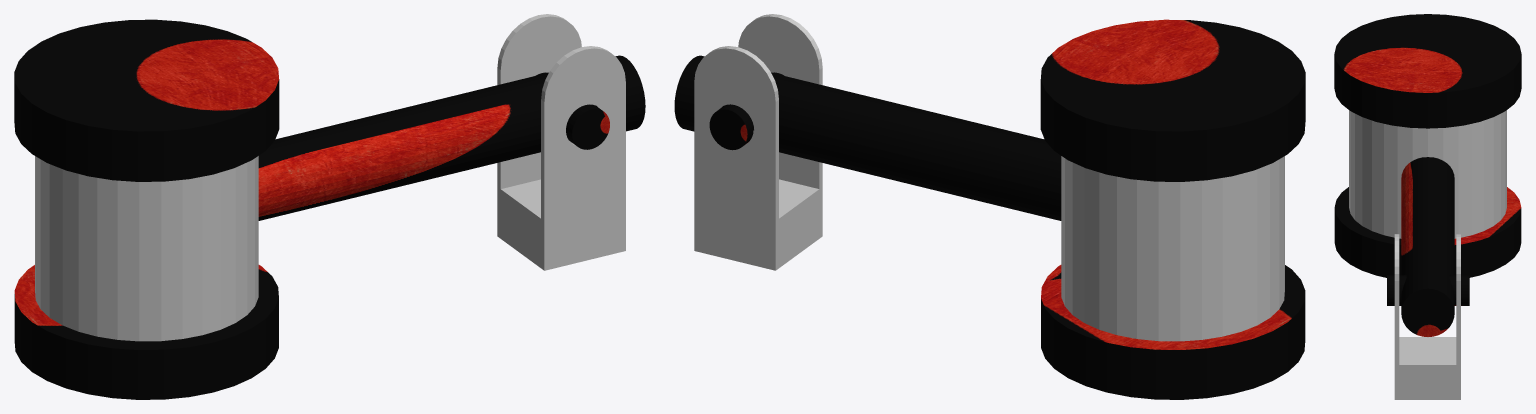
File: Spinning_Sledgehammer 1.fbx
The picture shows the model from 3 angles, left to right: view 1: azimuth 30°, elevation 25°; view 2: azimuth 150°, elevation 25°; view 3: azimuth 270°, elevation 25°; orthographic projection. The views are drawn at different scales.
Parts seen in each view (by area): view 1: Cylinder.008, Cube.009, Cylinder.010; view 2: Cylinder.008, Cube.009, Cylinder.010; view 3: Cylinder.008, Cube.009, Cylinder.010.
Boxes of the visible parts, x1,y1,x2,y2 form: Cylinder.008: (14, 19, 645, 399); Cube.009: (497, 14, 625, 270); Cylinder.010: (536, 72, 609, 149); Cylinder.008: (674, 19, 1305, 399); Cube.009: (694, 14, 822, 270); Cylinder.010: (709, 72, 784, 150); Cylinder.008: (1334, 14, 1521, 336); Cube.009: (1394, 234, 1460, 399); Cylinder.010: (1387, 275, 1469, 305).
Bounding box in the file's own units: 37.01 × 16.01 × 14.3.
